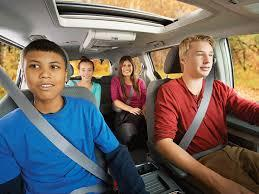seatbelt: (17, 102, 108, 192), (171, 81, 231, 149), (117, 77, 144, 112)
